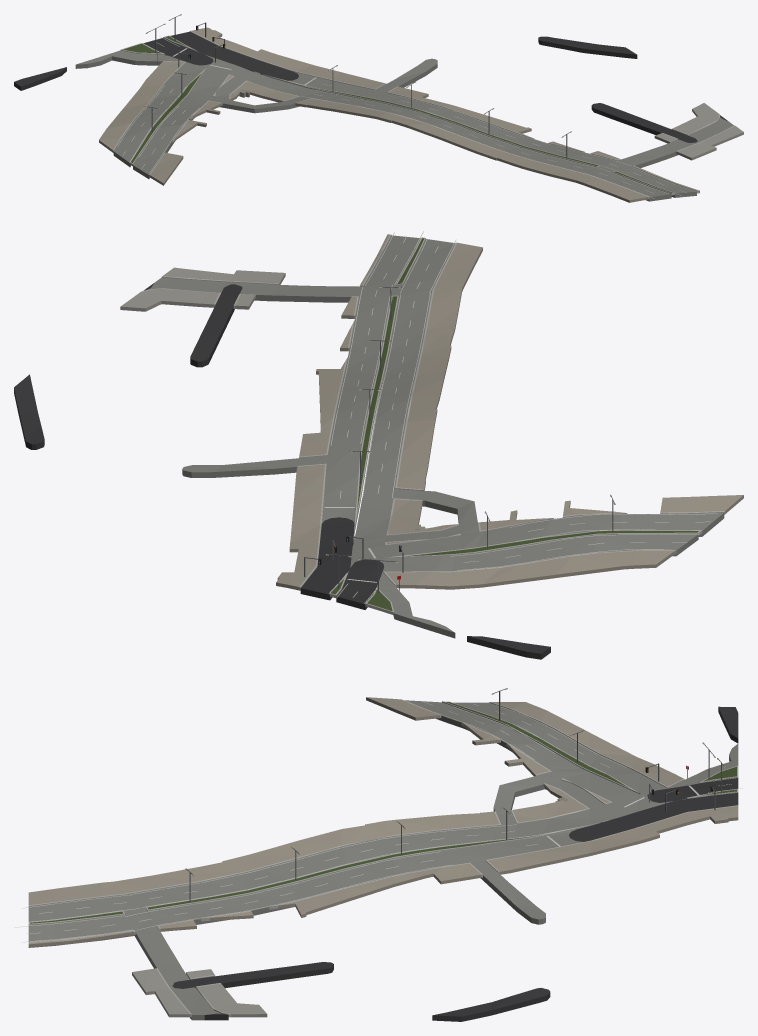
3 renders of one model, top to bottom at view 1: azimuth 30°, elevation 25°; view 2: azimuth 150°, elevation 25°; view 3: azimuth 270°, elevation 25°, orthographic. The views are drawn at different scales.
Size of the model in its own units: 147 by 13.6 by 150.
